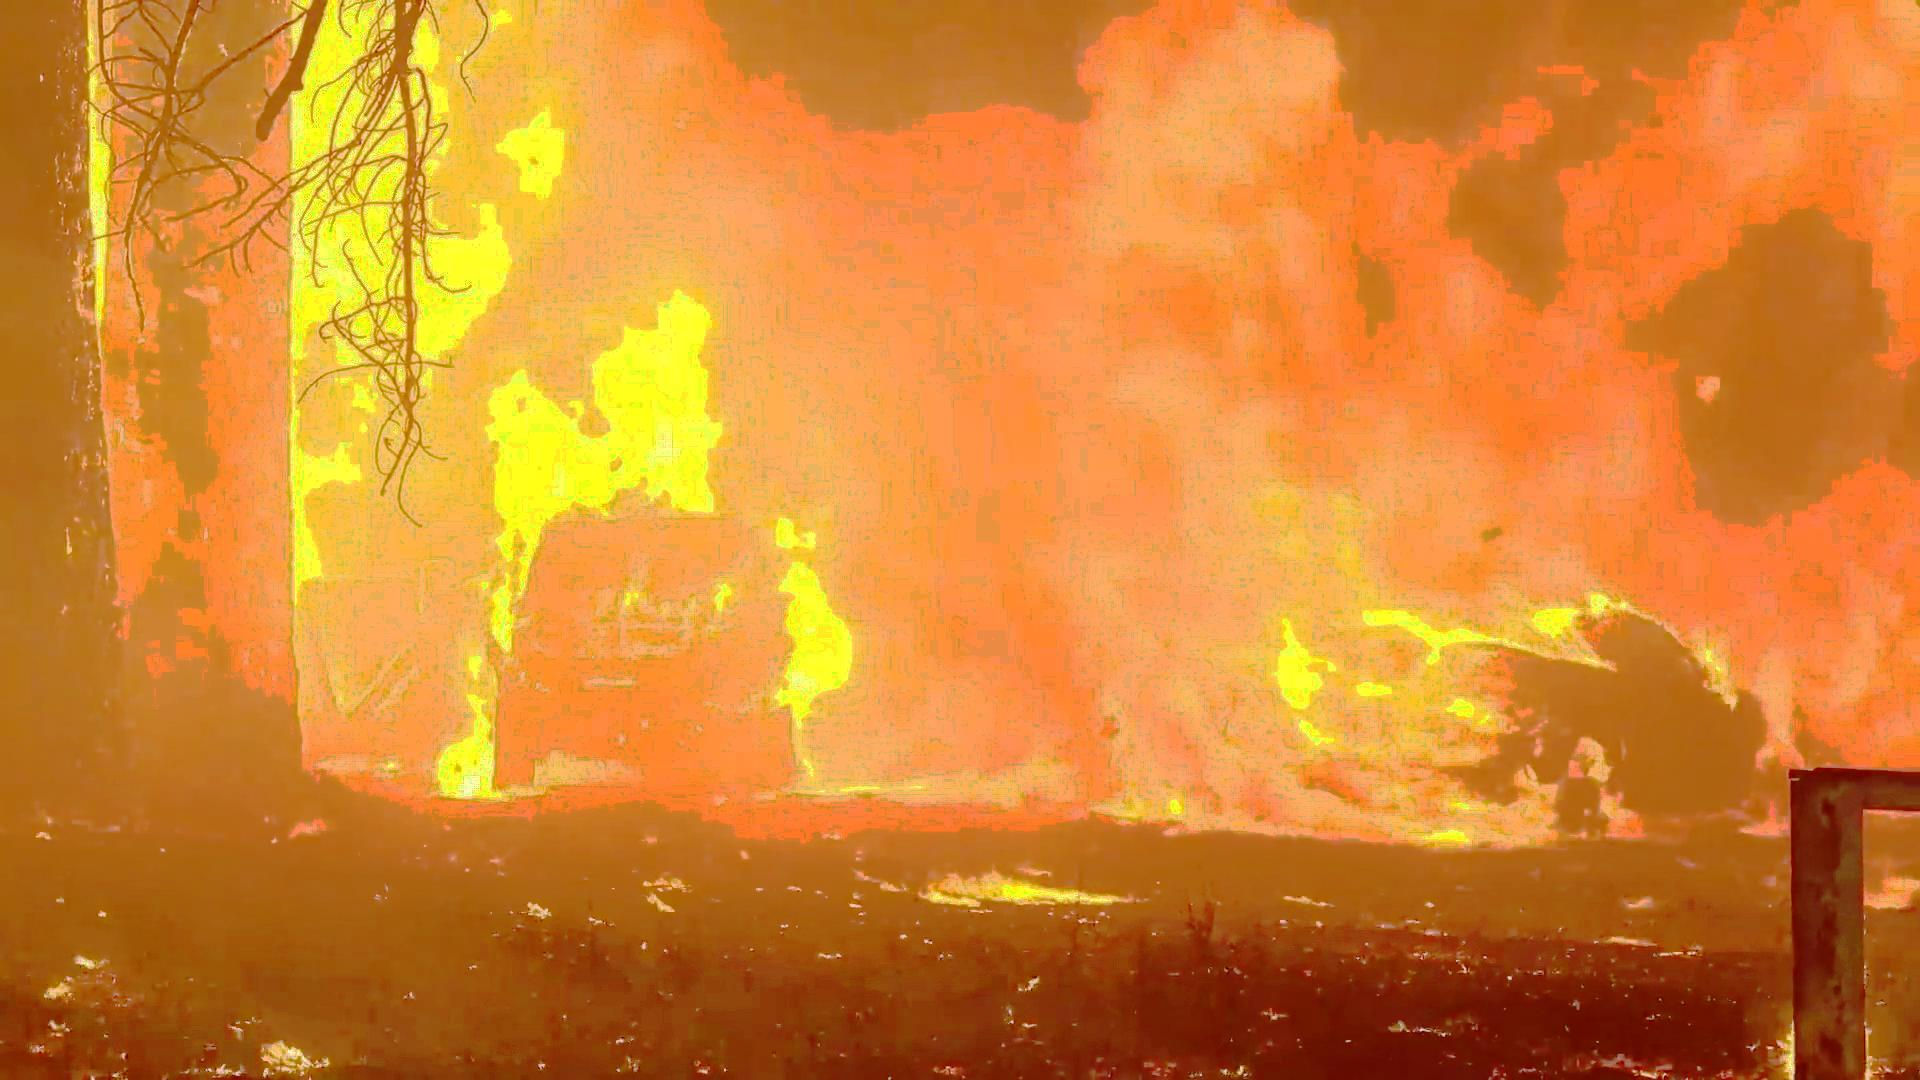fire: (471, 253, 963, 808), (1096, 381, 1528, 839)
